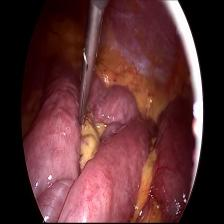Grasper: (77, 12, 106, 124)
